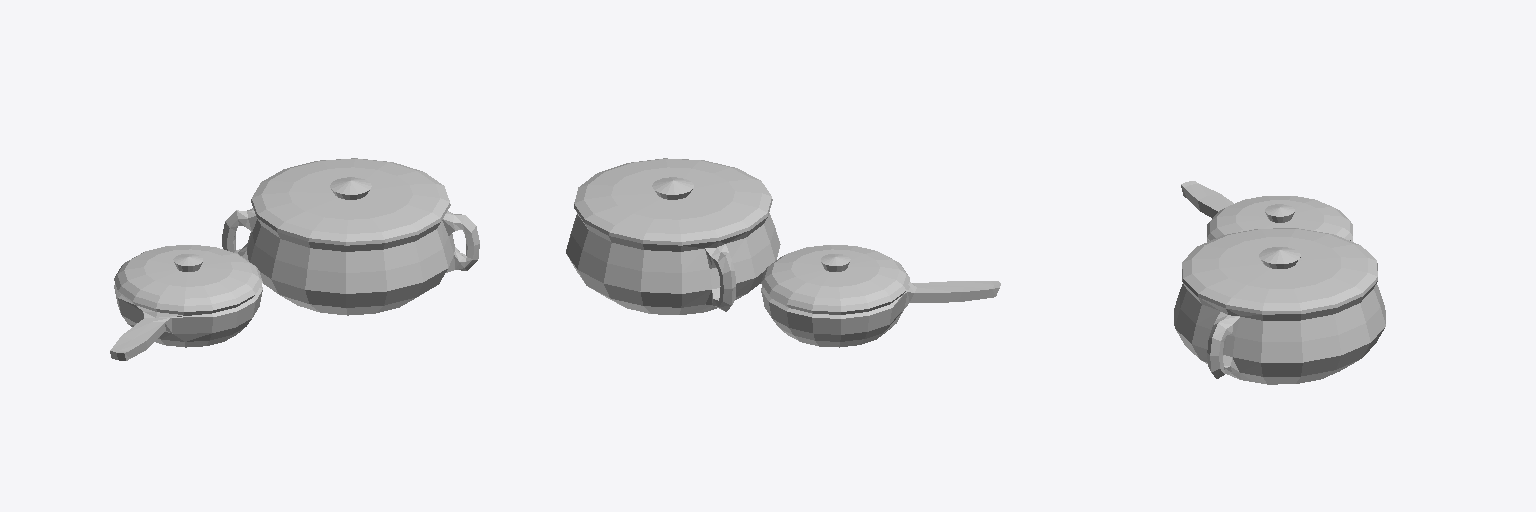
The model's file is kitchen_shelf_content_5.obj.
3 views of the same model, side by side, from view 1: azimuth 30°, elevation 25°; view 2: azimuth 150°, elevation 25°; view 3: azimuth 270°, elevation 25° (orthographic).
Size of the model in its own units: 8.42 by 2.23 by 4.09.